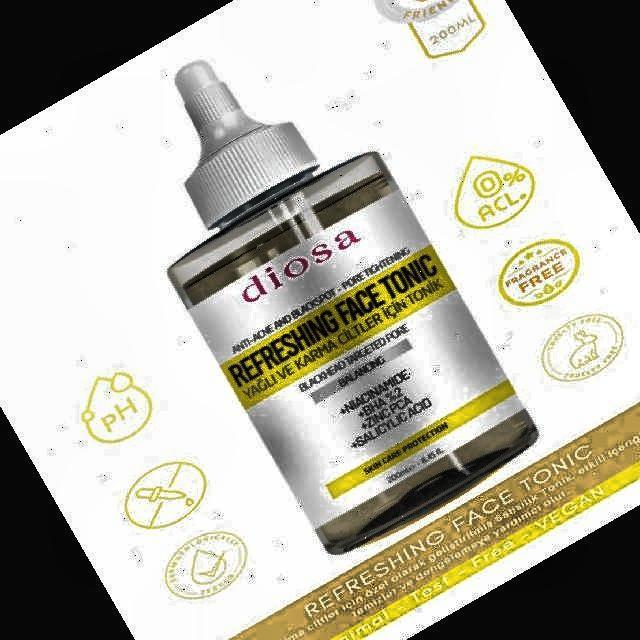plastic: (169, 62, 538, 552)
